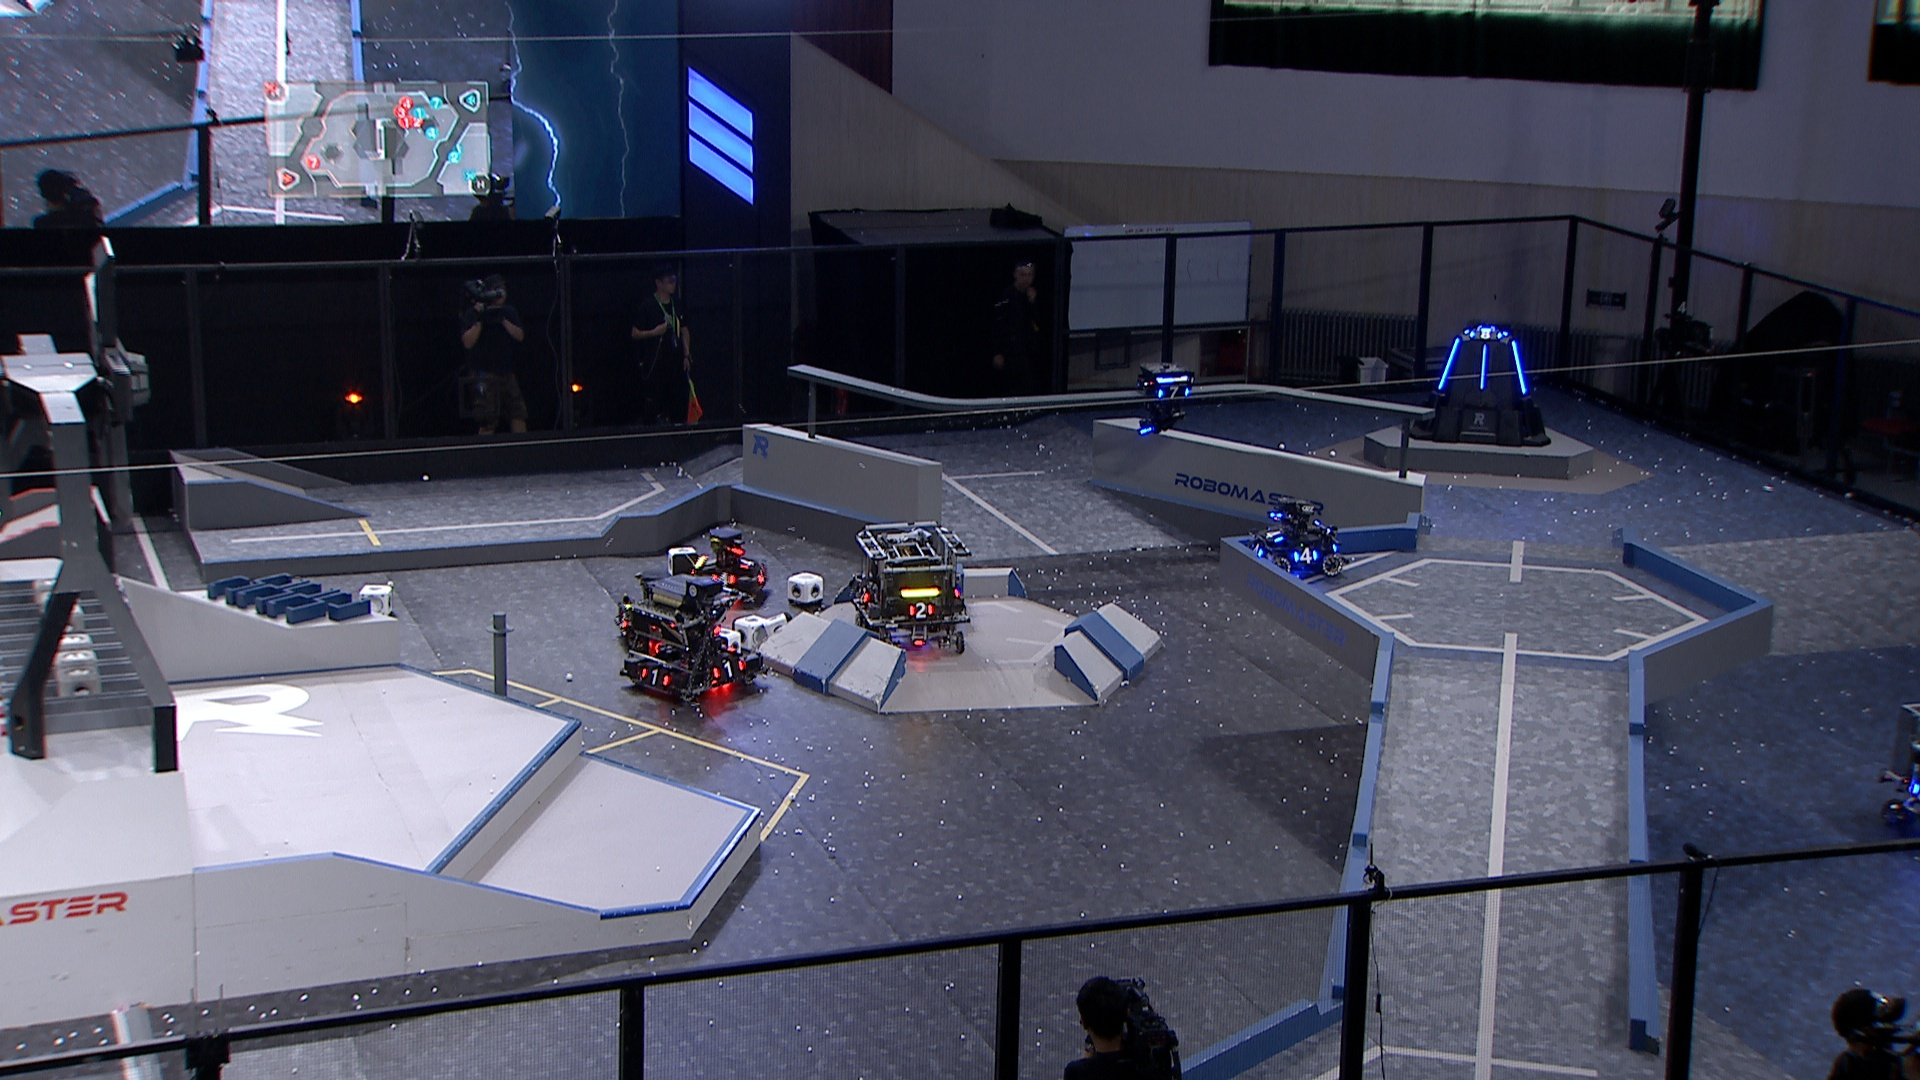armor: (1433, 335, 1461, 392), (1513, 338, 1528, 396), (638, 666, 673, 690), (712, 659, 746, 680), (1156, 384, 1192, 404), (906, 600, 935, 621), (1466, 327, 1505, 343), (1292, 547, 1321, 564), (711, 571, 737, 588), (1259, 527, 1286, 545), (1480, 344, 1489, 392), (855, 584, 872, 607), (1904, 775, 1920, 799), (1249, 541, 1267, 559), (737, 556, 757, 570), (756, 568, 767, 585)
base: (1404, 323, 1553, 447)
car: (613, 572, 766, 703), (849, 520, 972, 657), (1244, 491, 1346, 584), (690, 526, 770, 605), (1883, 699, 1920, 851)
watcher: (1133, 361, 1195, 436)
